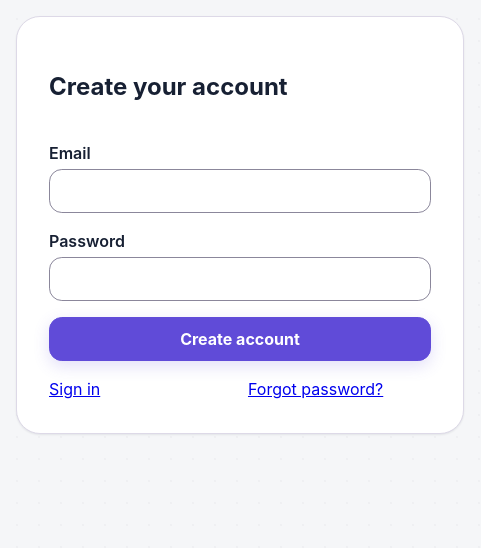
it: authentication forms › submits account registration
The width and height of the screenshot is (481, 548).
Type "new-solver@example.test" into the field labelled "Email" at {"x": 240, "y": 191}, box [49,169,431,213]
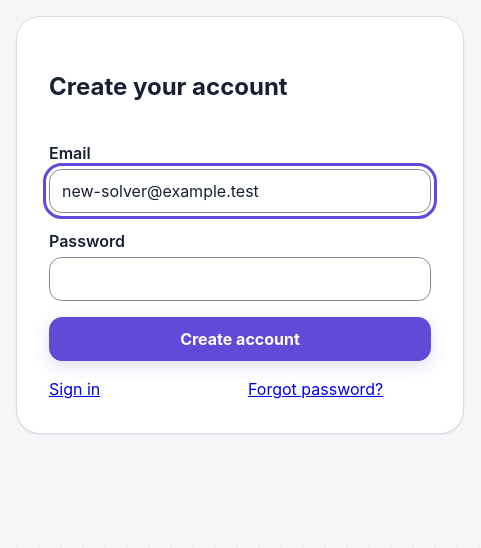
Type "correct-horse" into the password field labelled "Password" at {"x": 240, "y": 279}, box [49,257,431,301]
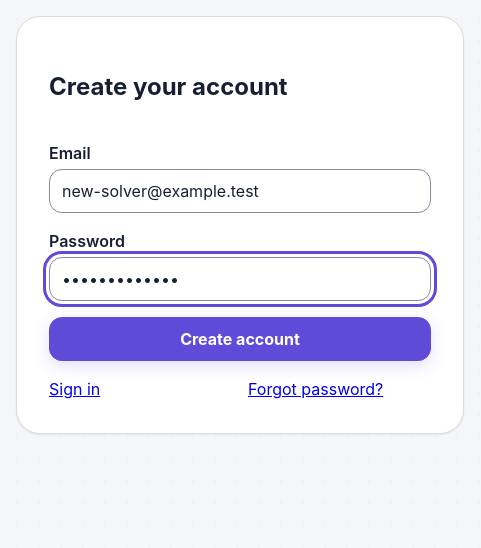
Click the button "Create account" at {"x": 240, "y": 339}, box [49,317,431,361]
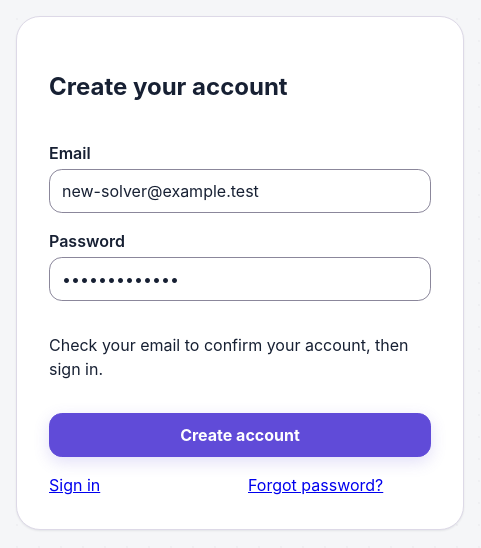
Now the message shows "Check your email to confirm your account", box [49,335,408,379]
